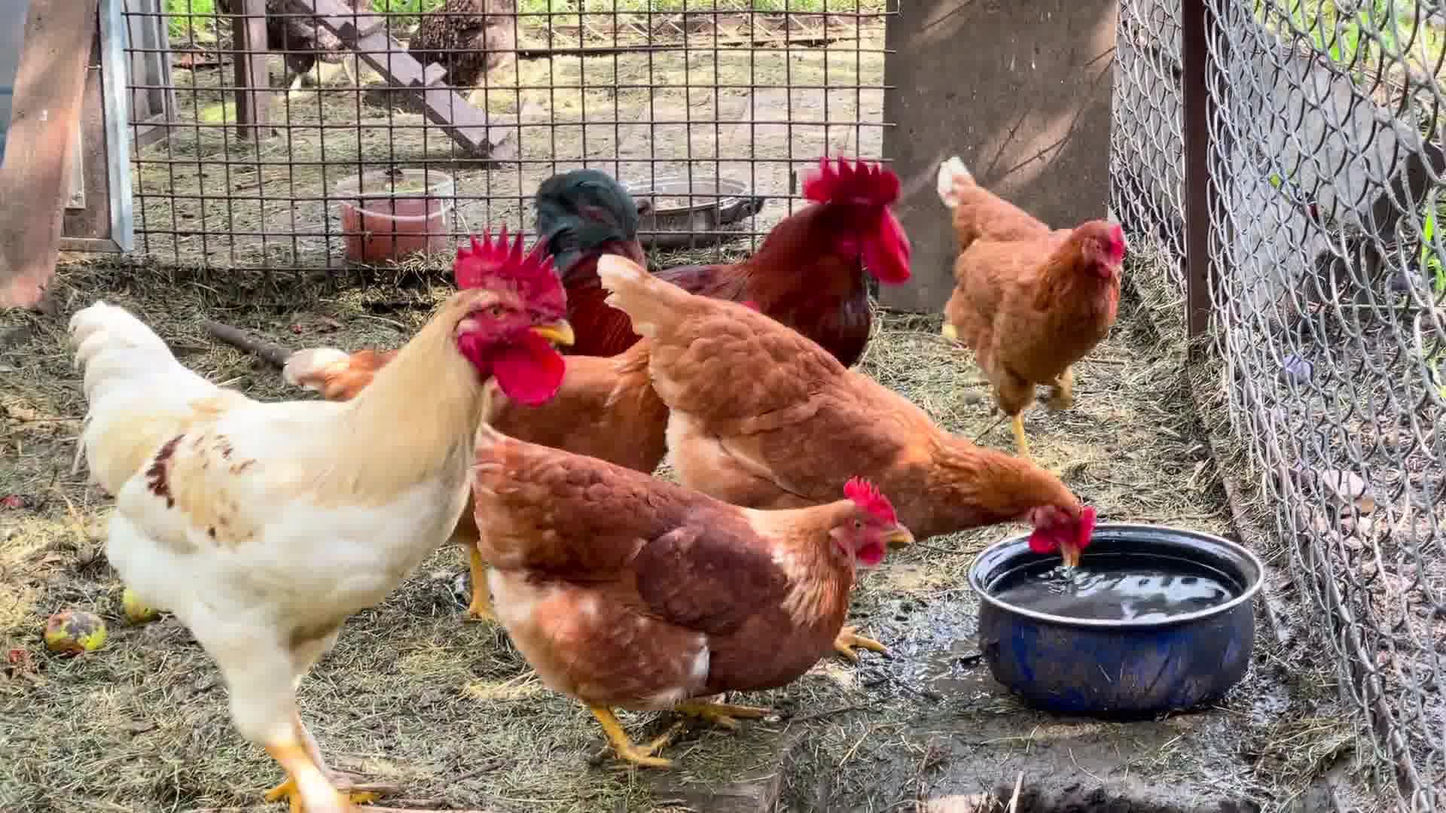Normal: (72, 230, 578, 813), (599, 251, 1094, 628), (475, 416, 921, 777), (268, 322, 731, 649), (520, 162, 948, 389), (930, 149, 1140, 462)
